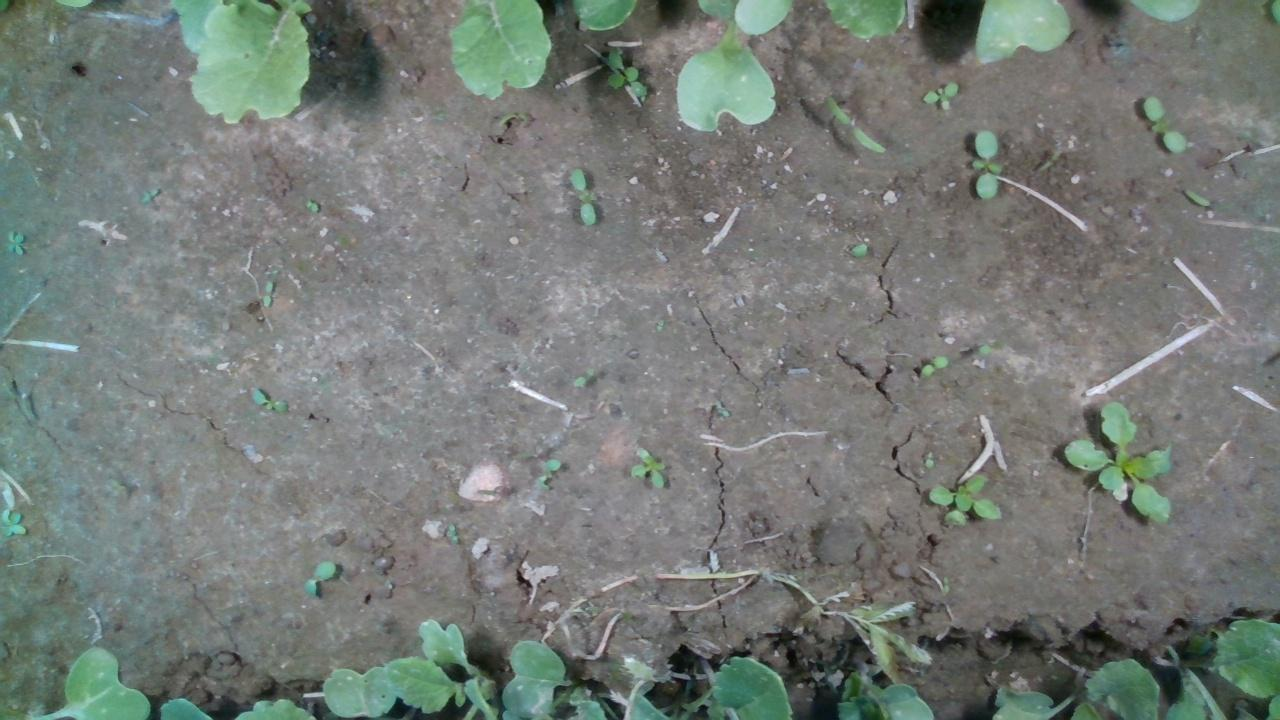weed: (823, 95, 887, 152), (1140, 92, 1189, 153), (966, 129, 1003, 199), (567, 166, 595, 225), (627, 452, 666, 487), (303, 558, 335, 597), (917, 81, 959, 109), (250, 386, 289, 412), (917, 354, 949, 378), (1179, 186, 1212, 206), (5, 229, 25, 256), (259, 277, 273, 307), (302, 197, 319, 211)
